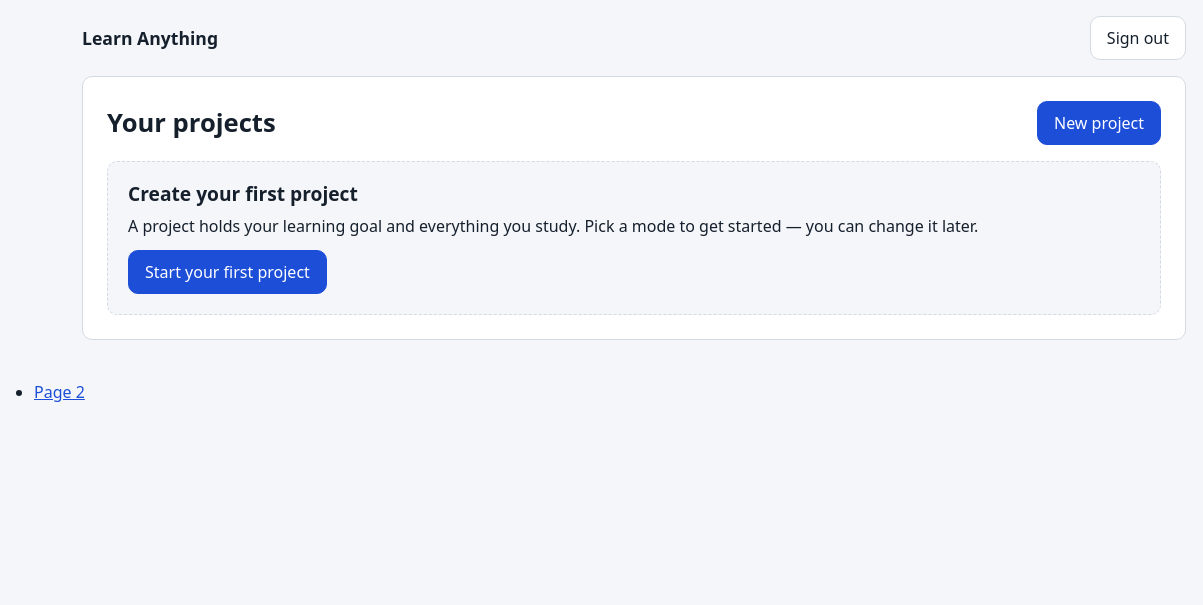
Test: clicking a citation opens the source viewer at the cited passage
Step 1. Click the link "Page 2" → (59, 392), box [34,381,85,403]
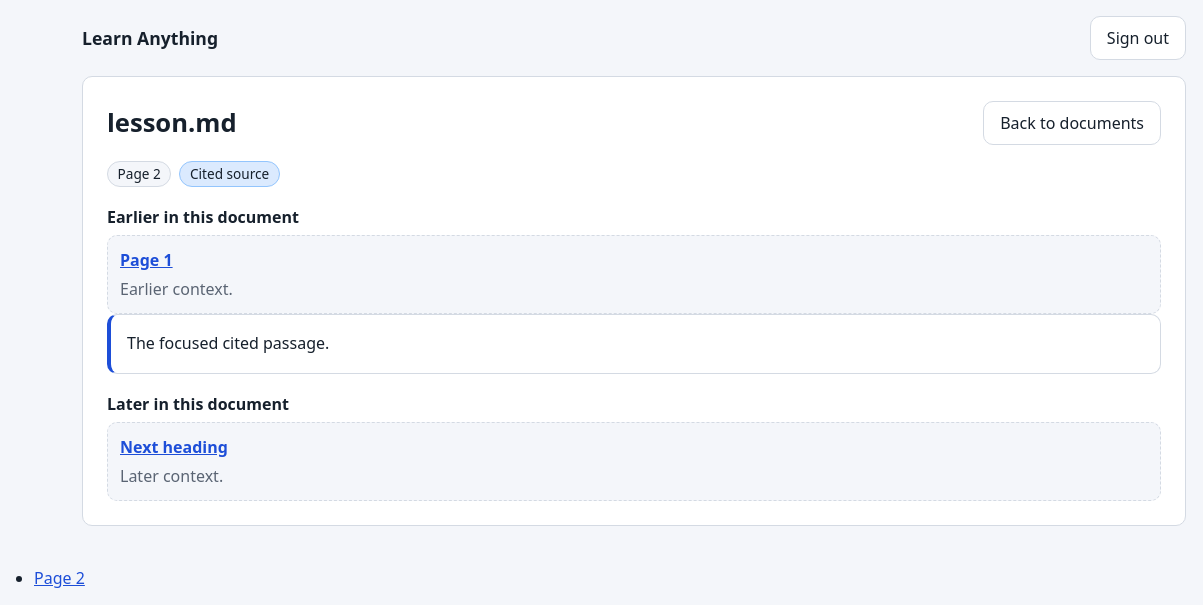
Result: the heading "lesson.md" is shown at [107,107,237,139]
Result: the text "The focused cited passage." is shown at [127,332,329,354]
Result: the text "Cited source" is shown at [179,161,280,187]
